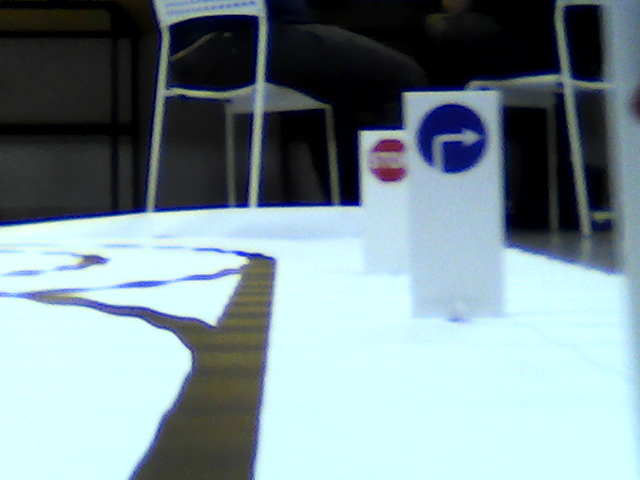Right: (416, 102, 487, 177)
Stop: (370, 139, 410, 180)
